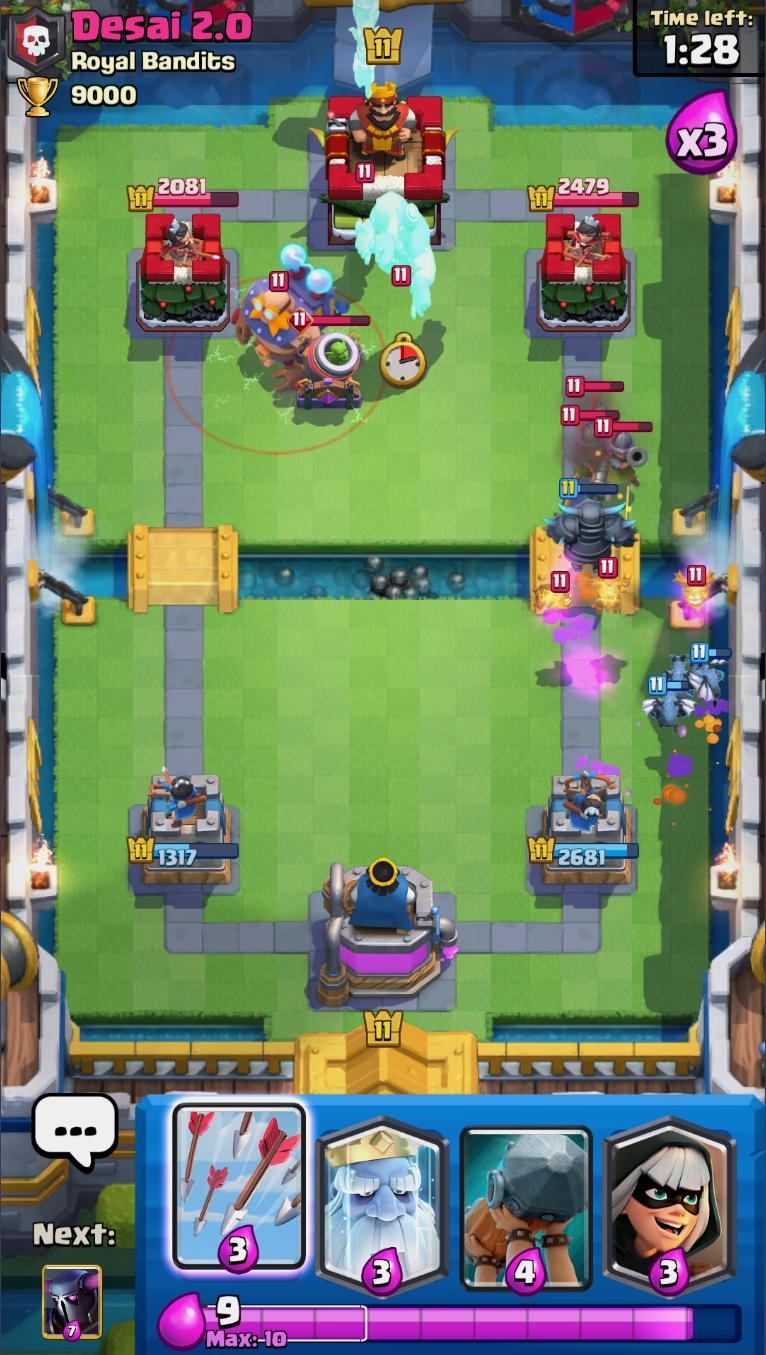ArrowDeck: (167, 1095, 310, 1296)
BanditDeck: (599, 1094, 744, 1296)
BattleRamDeck: (456, 1094, 598, 1295)
ElectroGiant: (229, 240, 349, 397)
Elixir: (203, 1295, 744, 1350)
EnemyTower: (533, 208, 631, 331), (133, 210, 229, 335)
EvoMortar: (288, 310, 373, 412)
Goblinstein: (354, 191, 438, 322)
KingTower: (308, 82, 456, 248)
LavaHoundMini: (592, 556, 631, 615), (676, 562, 714, 614), (532, 570, 573, 616)
Musketeer: (558, 404, 618, 507), (593, 416, 652, 511), (563, 376, 624, 430)
MyKingTower: (319, 856, 458, 1009)
MyMinion: (640, 673, 696, 731), (683, 646, 735, 706), (659, 653, 702, 692)
MyPekka: (542, 477, 640, 574)
MyPrincessTower: (524, 771, 639, 887), (125, 769, 238, 887)
MyPrincessTowerHP: (125, 836, 238, 868), (525, 835, 637, 867)
PekkaNext: (41, 1264, 106, 1344)
PrincessTower: (555, 213, 612, 264), (148, 214, 204, 264)
RoyaleGhostDeck: (311, 1095, 455, 1296)
TowerPrincessHP: (126, 178, 239, 213), (526, 178, 639, 212)
